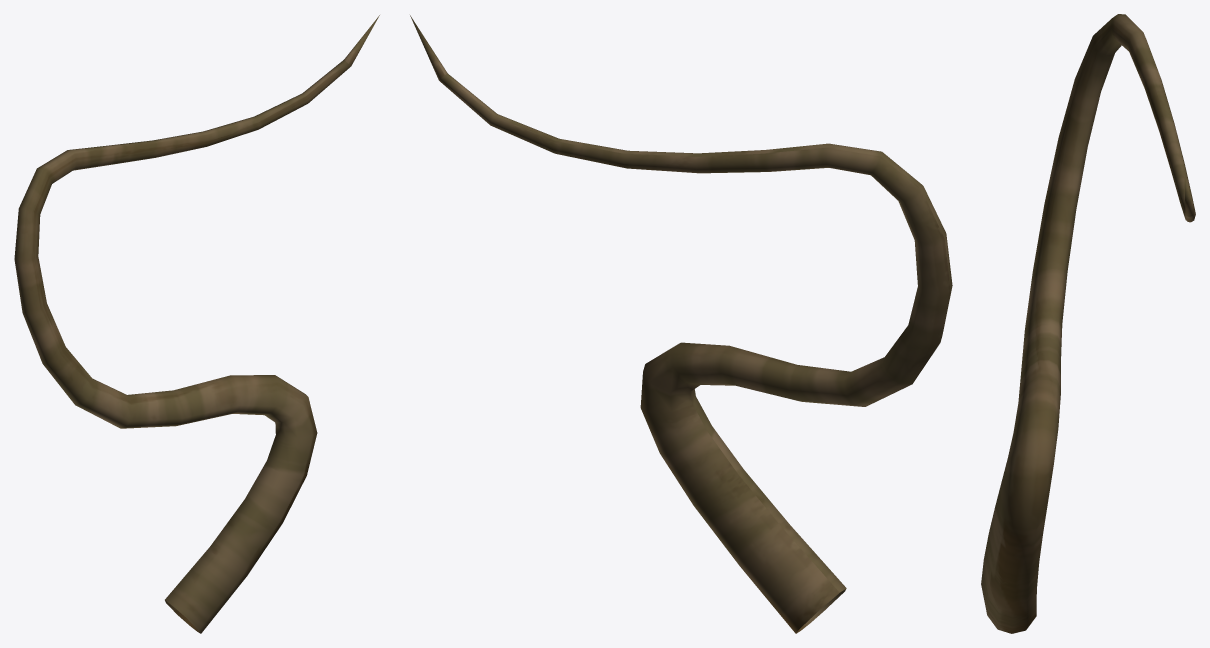
Rendered from veg_Large Vine_B.fbx.
3 renders of one model, left to right at view 1: azimuth 30°, elevation 25°; view 2: azimuth 150°, elevation 25°; view 3: azimuth 270°, elevation 25°, orthographic. The views are drawn at different scales.
Parts seen in each view (by area): view 1: veg_Large Vine_B; view 2: veg_Large Vine_B; view 3: veg_Large Vine_B.
Part boxes in pixels (<box>): veg_Large Vine_B: <box>14,15,379,633</box>; veg_Large Vine_B: <box>410,15,952,633</box>; veg_Large Vine_B: <box>981,14,1195,633</box>.
Bounding box in the file's own units: 879 × 1042 × 333.
